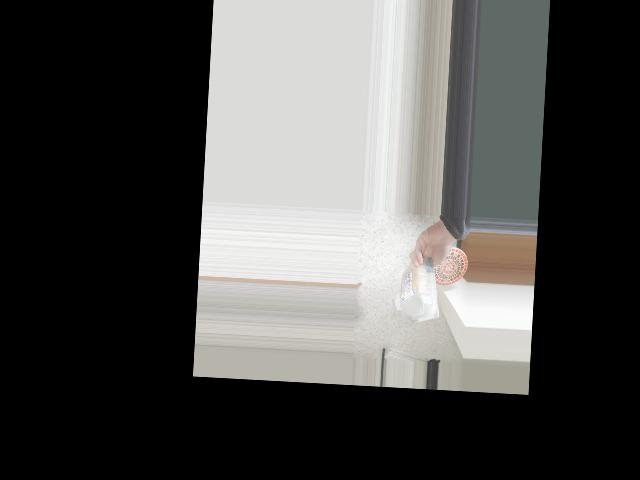cheese: (398, 257, 439, 325)
